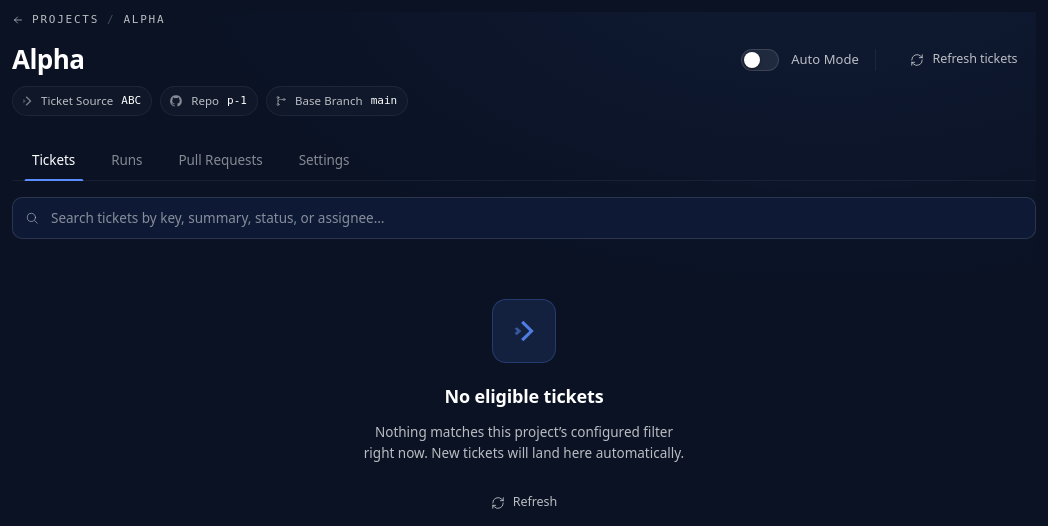
Test case: <ProjectDetail> PRs tab — #GH-67 › PRS-014: filter-empty state shows when rows exist but none match the filter
Click the tab "Pull Requests". click: (221, 160)
box: [162,140,279,180]
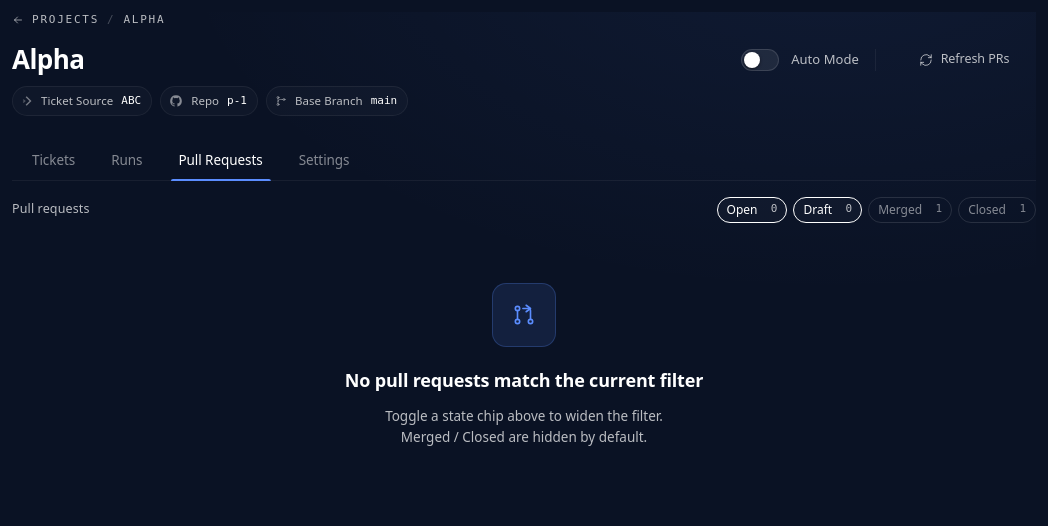
Expected: the element with test id "pulls-filter-empty" is shown, [345,283,703,446]
